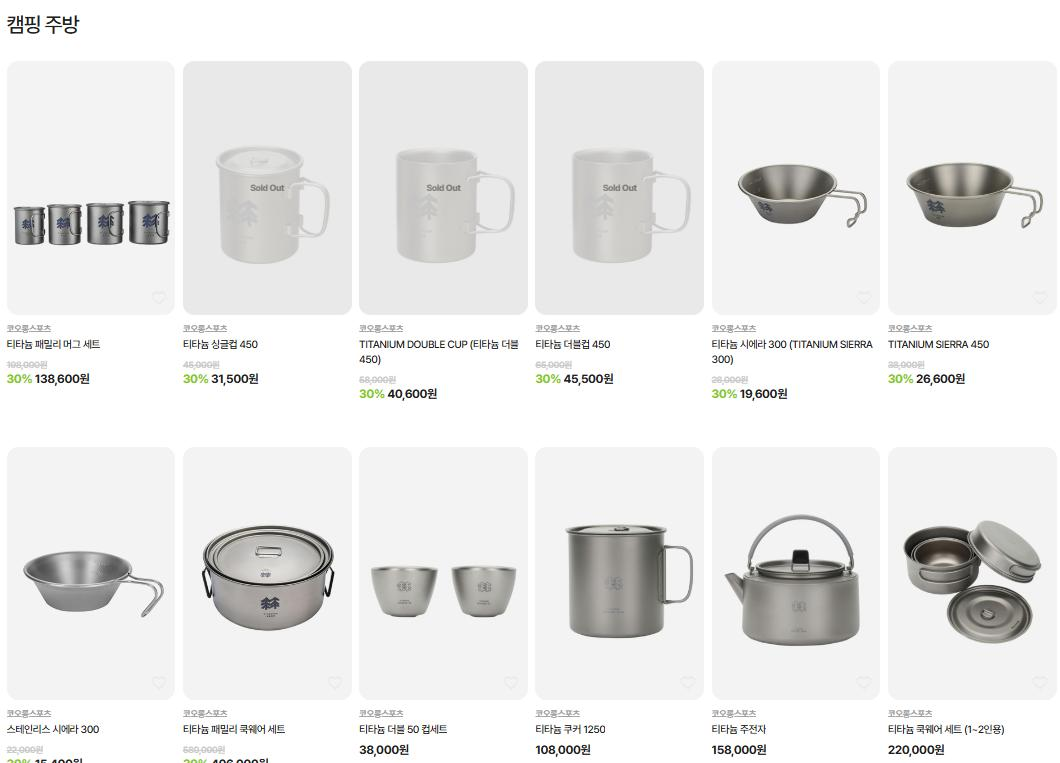button: (2, 337, 103, 353)
